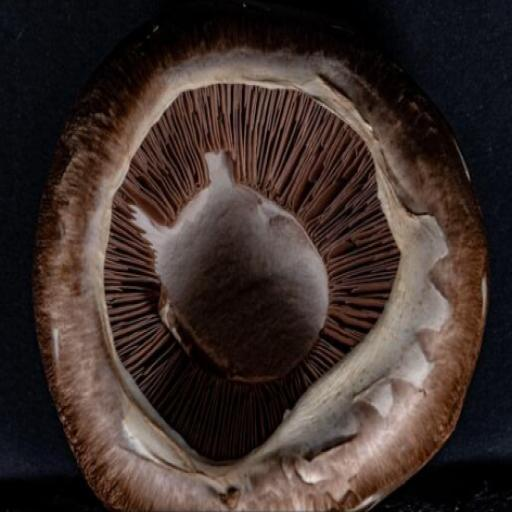mushroom: (23, 3, 491, 511)
